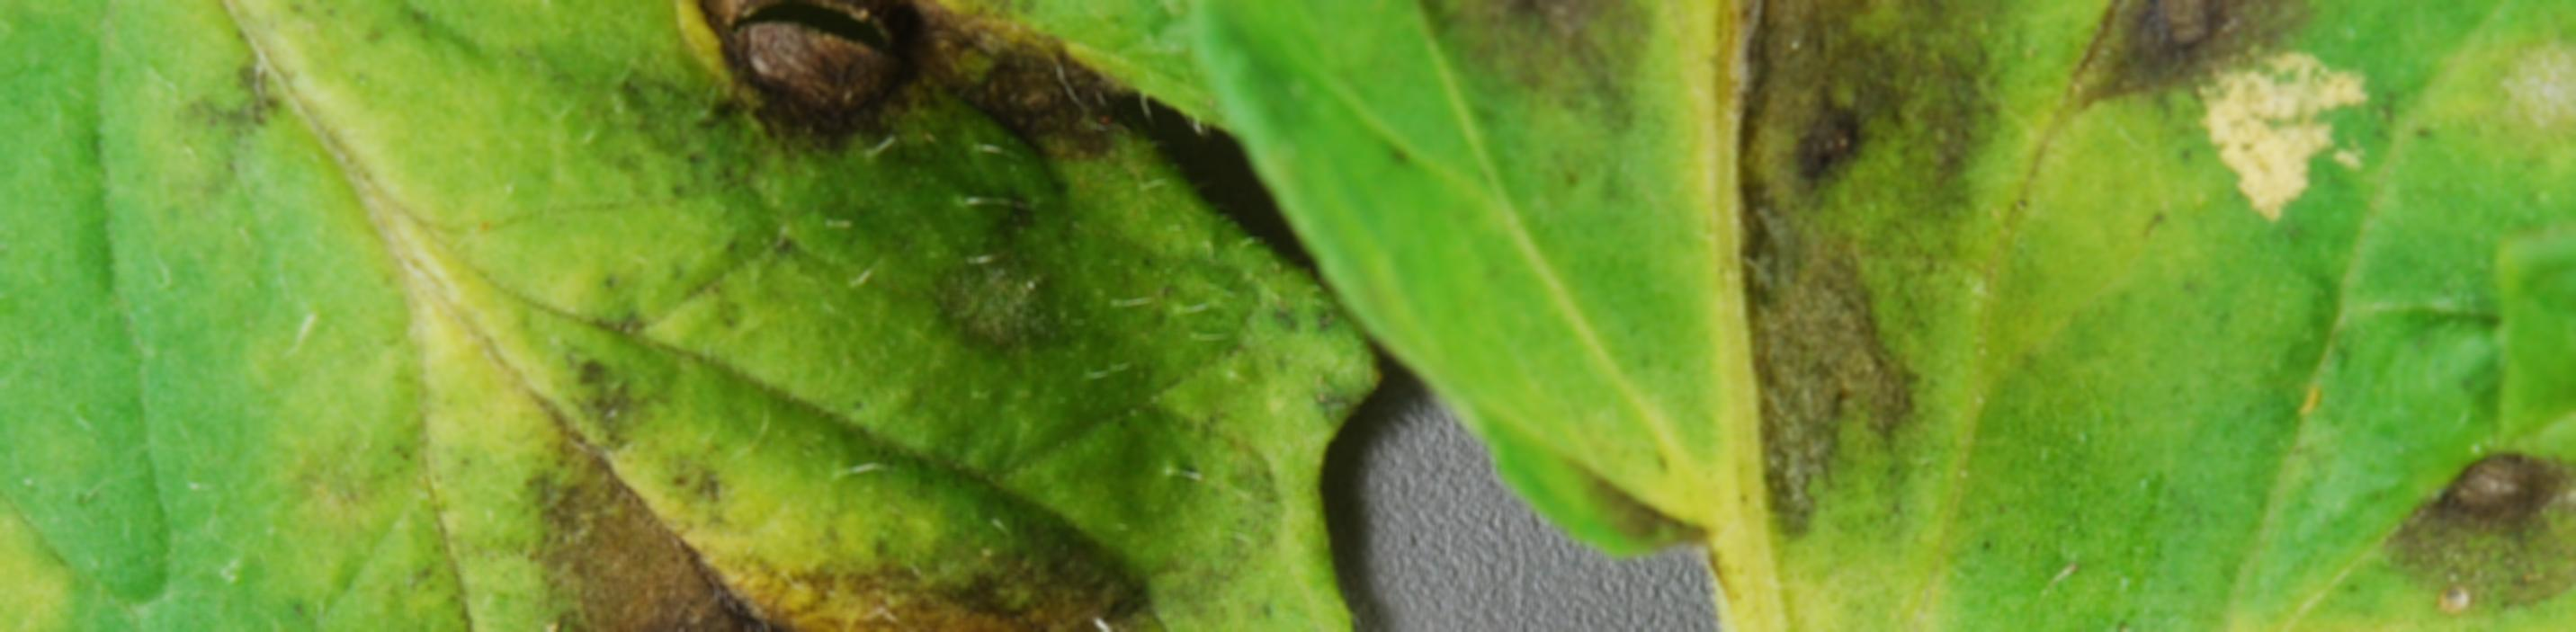Tomato Early blight leaf: (0, 0, 1636, 632), (1722, 0, 2576, 632)
